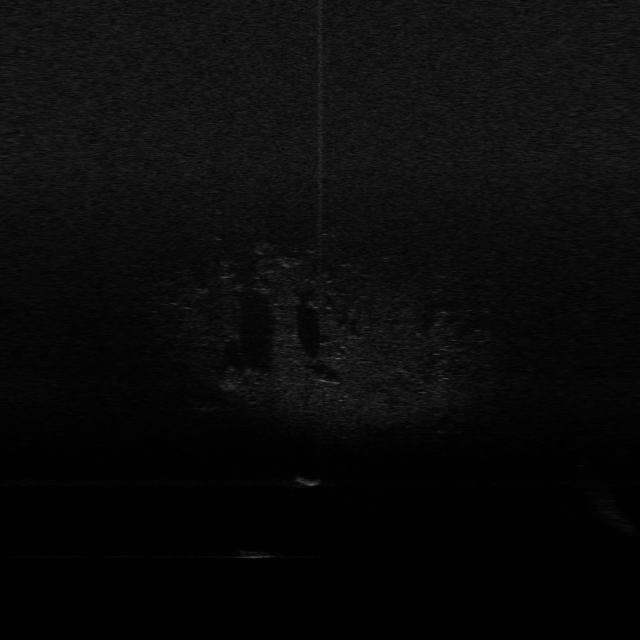cube: (236, 545, 278, 560)
square cage: (292, 474, 324, 488)
